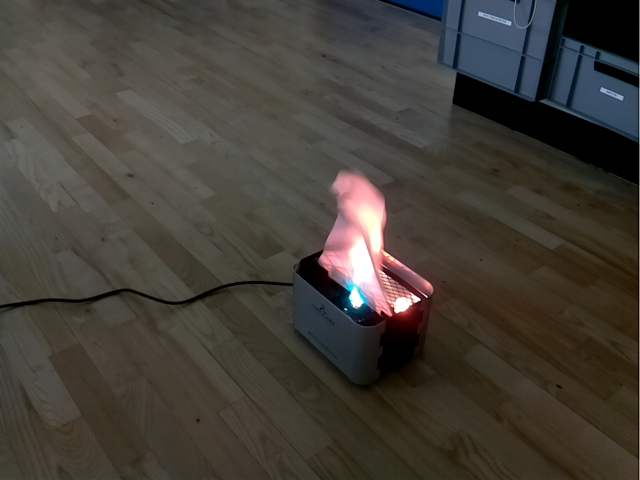fire: (317, 167, 395, 317)
